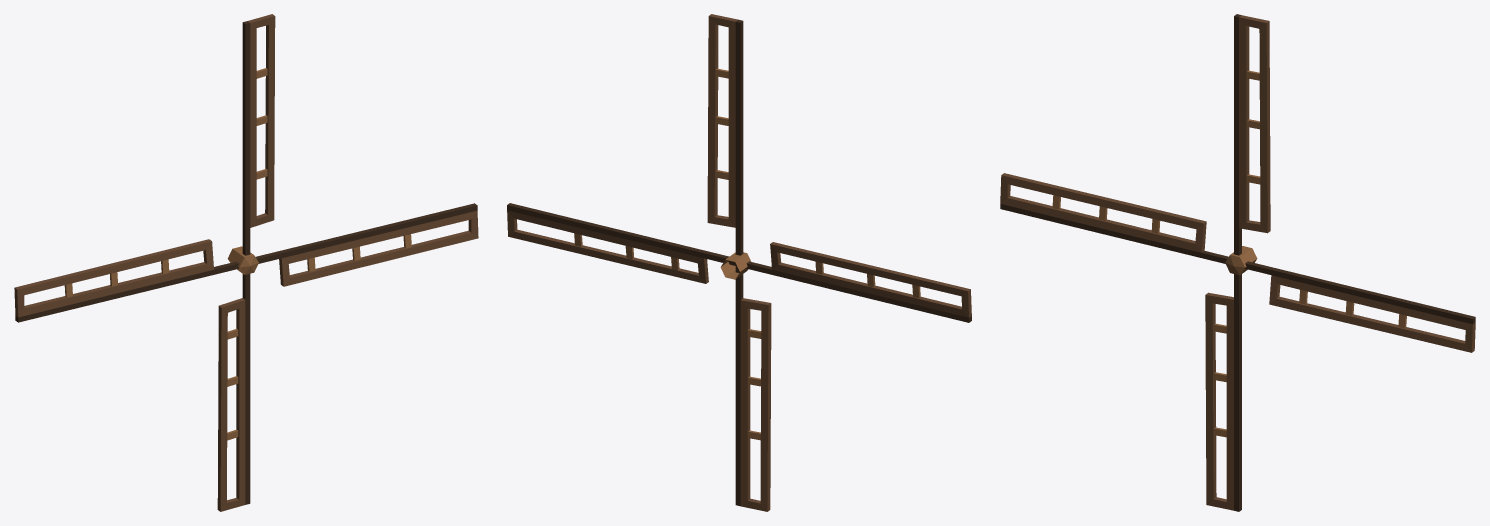
The model's file is windmill_1_blades_mat.fbx.
3 renders of one model, left to right at view 1: azimuth 30°, elevation 25°; view 2: azimuth 150°, elevation 25°; view 3: azimuth 330°, elevation 25°, orthographic. The views are drawn at different scales.
Parts seen in each view (by area): view 1: windmill_1_blades_mat; view 2: windmill_1_blades_mat; view 3: windmill_1_blades_mat.
Part boxes in pixels (left/top/right/bottom): windmill_1_blades_mat: left=14, top=14, right=478, bottom=511; windmill_1_blades_mat: left=507, top=14, right=971, bottom=511; windmill_1_blades_mat: left=1000, top=14, right=1475, bottom=511.
Bounding box in the file's own units: 664 × 664 × 33.45.
